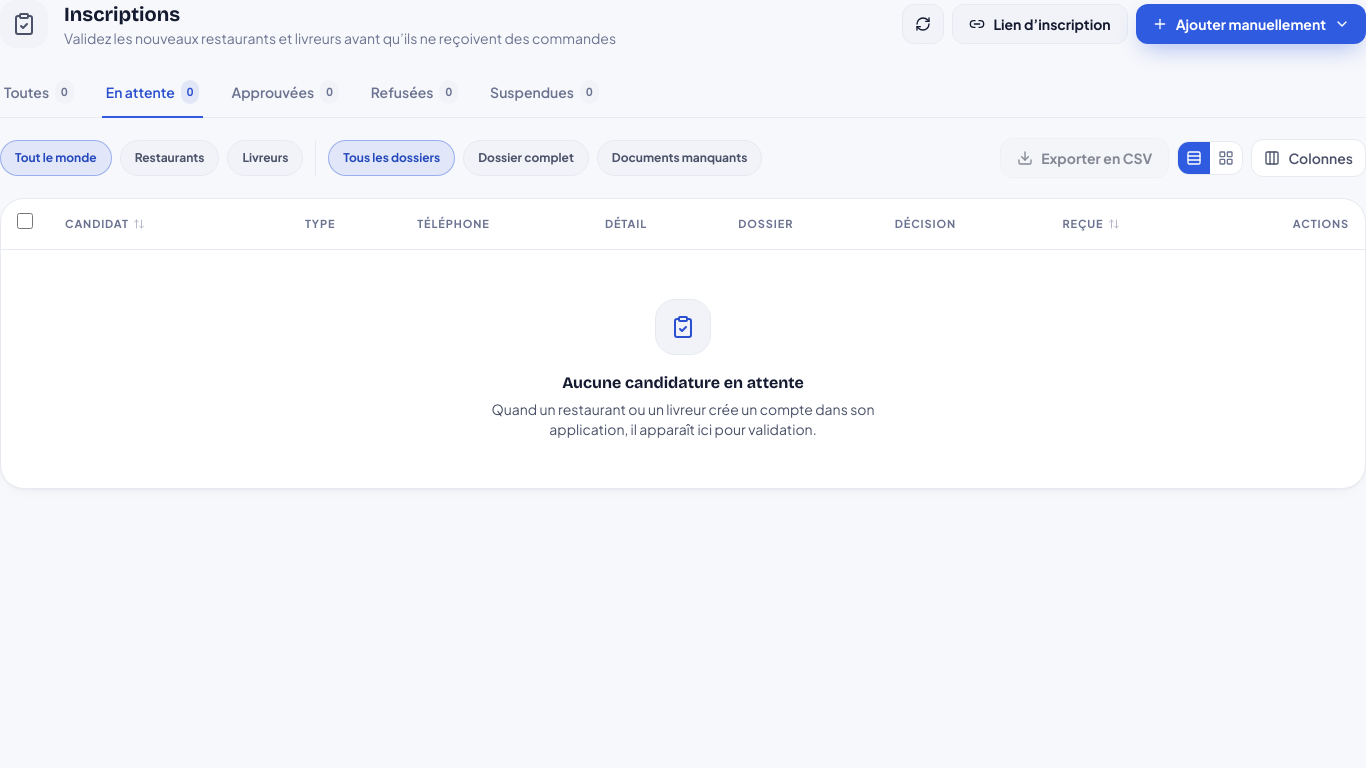
Test: ApplicationsPanel manual add › the "Ajouter manuellement" menu offers a restaurant or a rider and opens the form
Click the button "Ajouter manuellement".
click(1251, 24)  # box [1136,4,1365,44]
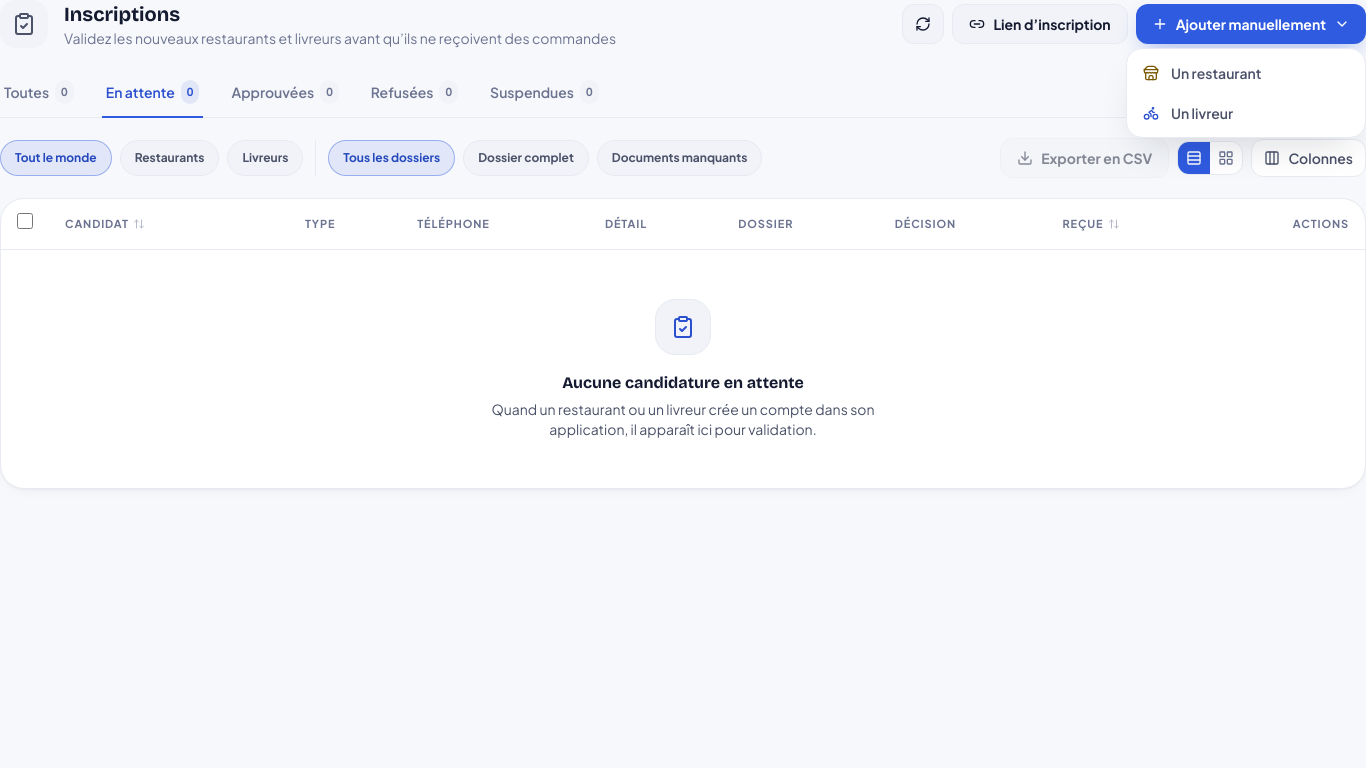
Click the menu item "Un livreur".
click(1246, 113)  # box [1127,93,1365,133]
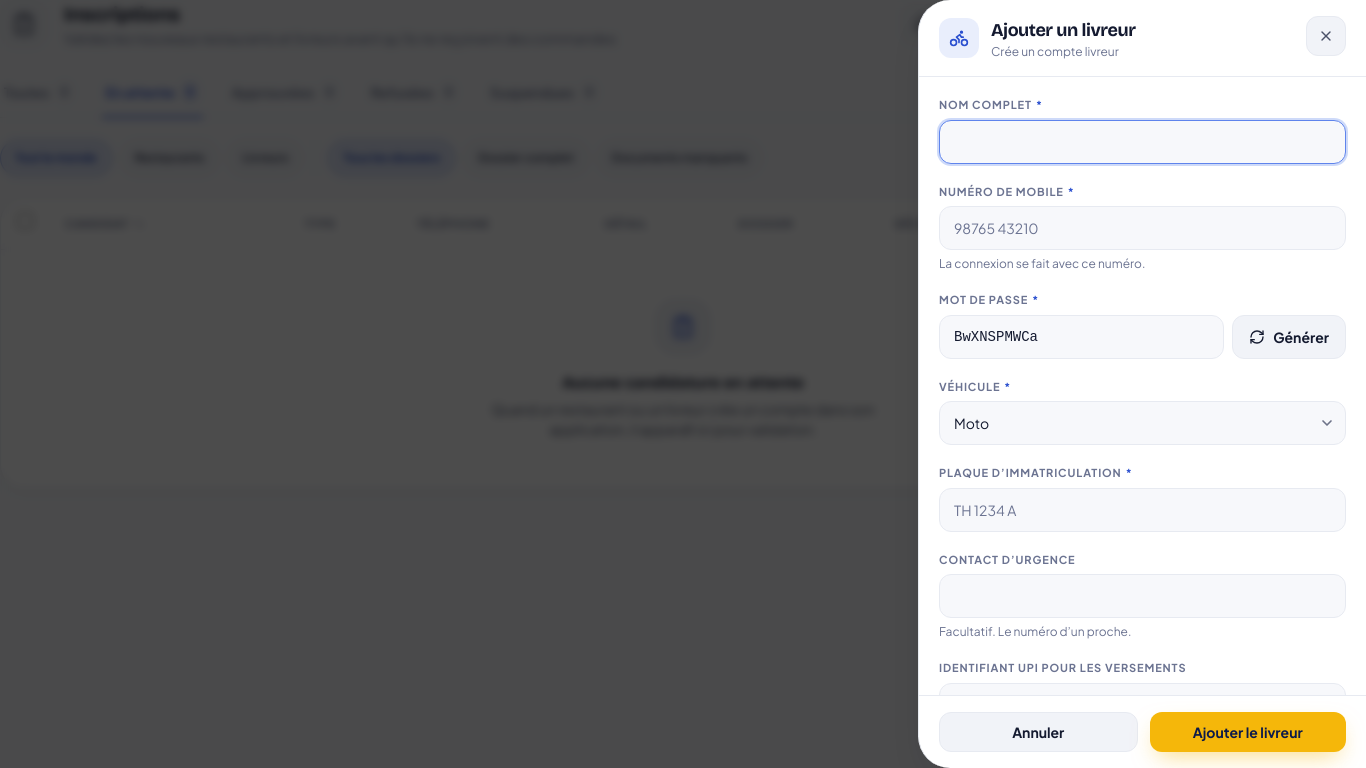
Expected: the text "Ajouter un livreur" is shown, [991,16,1136,44]
